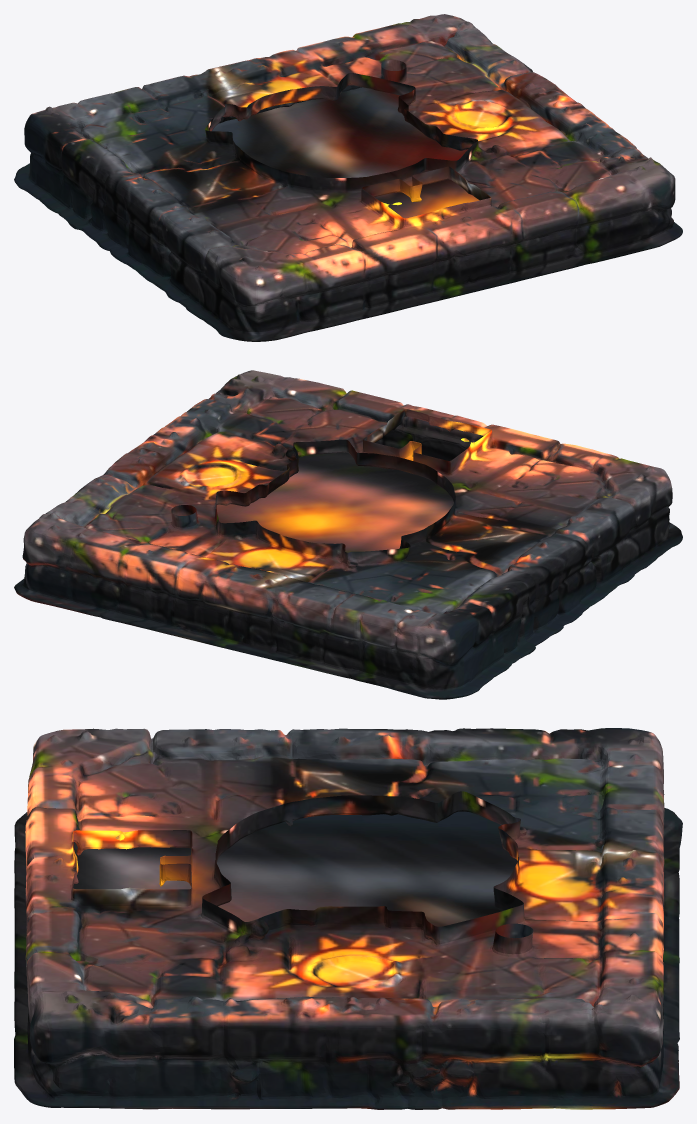
Rendered from furnace_plate.glb.
3 renders of one model, top to bottom at view 1: azimuth 30°, elevation 25°; view 2: azimuth 150°, elevation 25°; view 3: azimuth 270°, elevation 25°, orthographic. The views are drawn at different scales.
Parts seen in each view (by area): view 1: furnace_plate; view 2: furnace_plate; view 3: furnace_plate.
Boxes of the visible parts, x1=… form: furnace_plate: x1=14, y1=14, x2=682, y2=341; furnace_plate: x1=14, y1=370, x2=682, y2=699; furnace_plate: x1=14, y1=728, x2=682, y2=1109.
Size of the model in its own units: 2 by 0.3035 by 1.83.
Materials: 1 (1 with a texture image).
